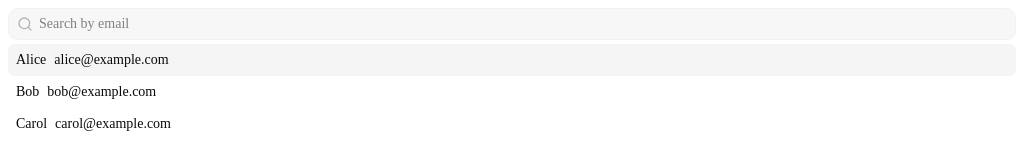
it: UserCombobox › shows matching users when typing a partial email
This screenshot has width=1024, height=160.
Type "alice" into the dropdown at (524, 24), box top-left (33, 14), bottom-right (1015, 34)
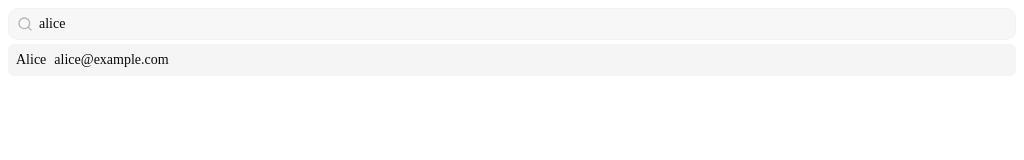
Expected: the text "alice@example.com" is shown, top-left (54, 50), bottom-right (169, 70)
Expected: the option "bob@example.com" is gone
